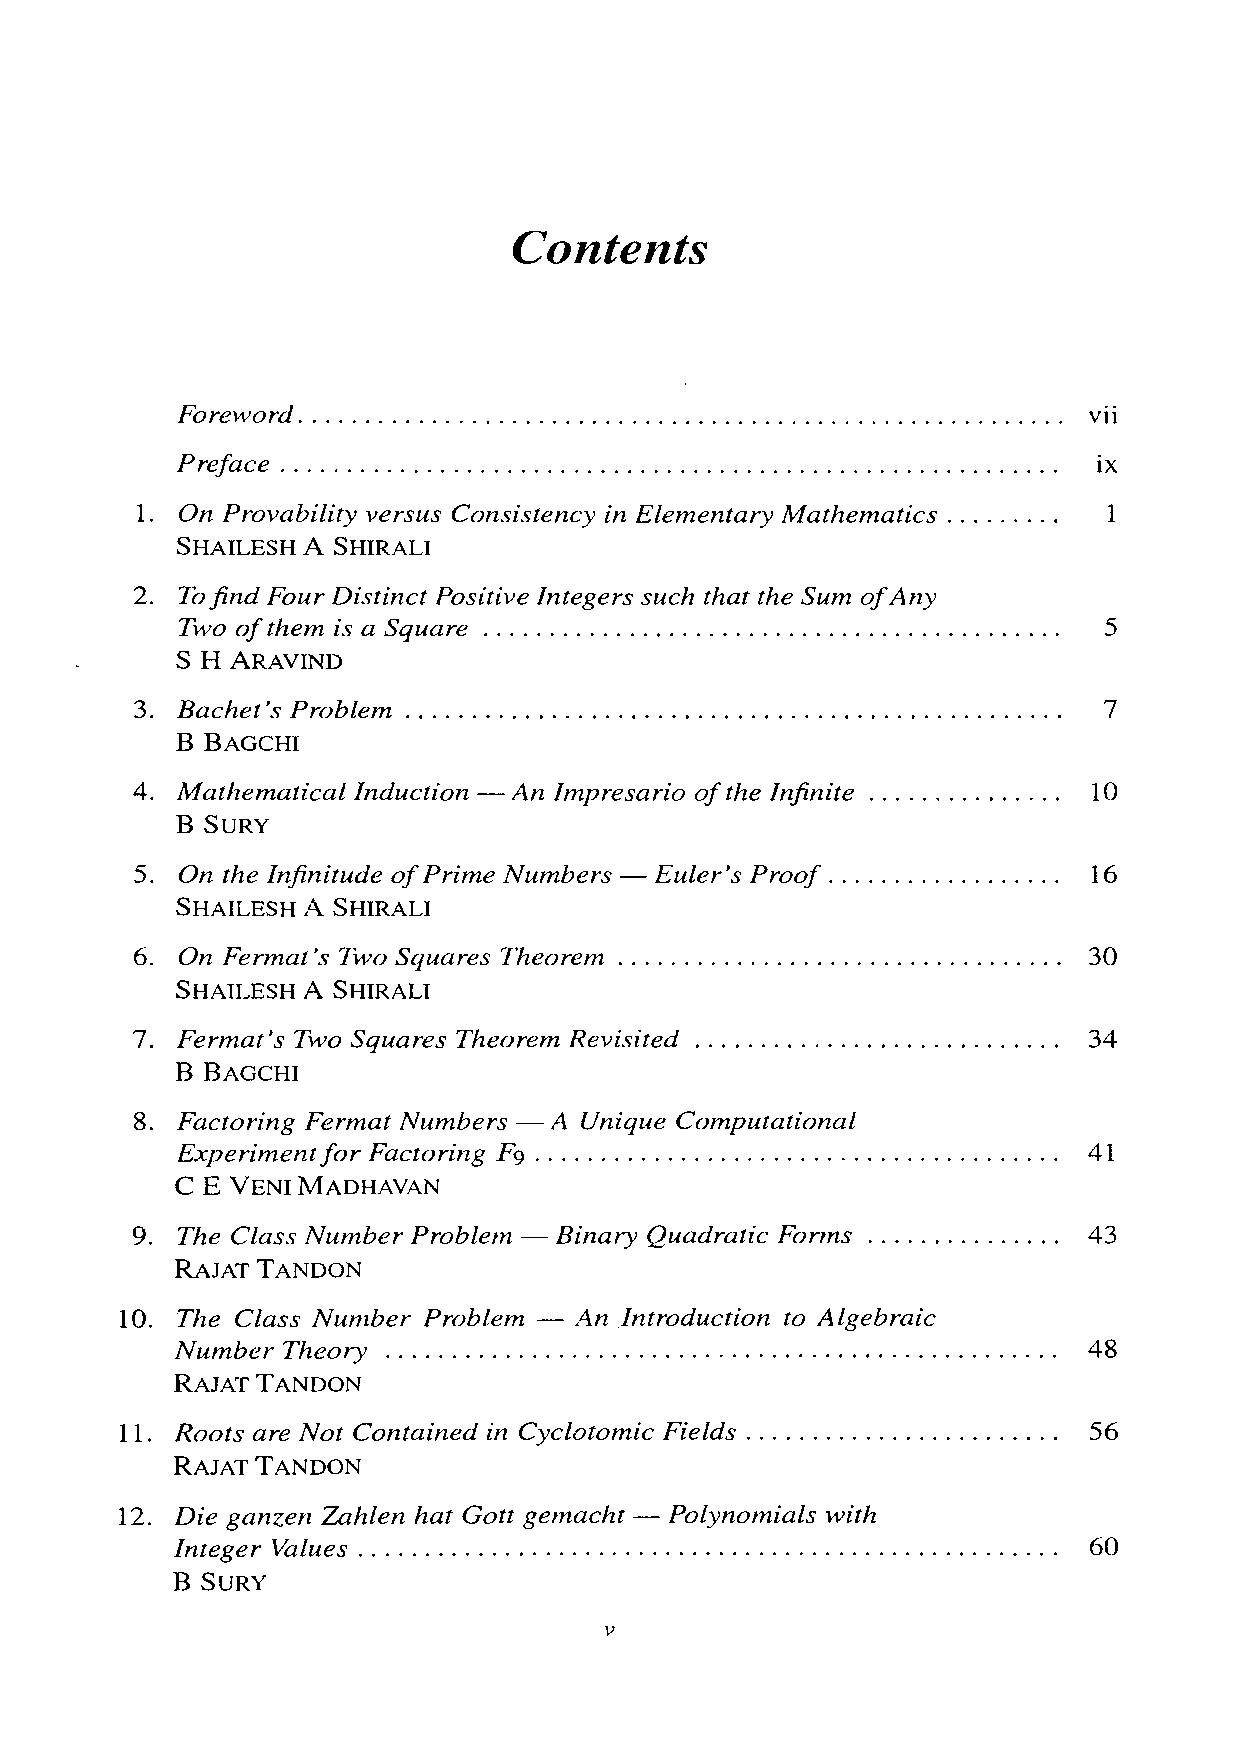TOC_chapter: (115, 1303, 942, 1365), (132, 578, 939, 639), (114, 1503, 883, 1563), (130, 1110, 864, 1169), (132, 499, 939, 530), (132, 776, 858, 807), (133, 859, 824, 891), (129, 1223, 859, 1249), (117, 1418, 735, 1449), (127, 1024, 680, 1052), (132, 943, 607, 972), (132, 697, 393, 721), (176, 400, 295, 425), (176, 450, 268, 476)
TOC_pagenumber: (1086, 858, 1122, 886), (1088, 774, 1121, 805), (1084, 1025, 1117, 1053), (1084, 1416, 1118, 1443), (1087, 1135, 1117, 1165), (1088, 450, 1119, 478), (1086, 1220, 1118, 1247), (1087, 943, 1119, 969), (1087, 400, 1118, 425), (1088, 1533, 1121, 1557), (1088, 1337, 1121, 1359), (1102, 499, 1121, 527), (1102, 695, 1121, 723), (1100, 612, 1119, 639)
chapter: (507, 225, 713, 268)
